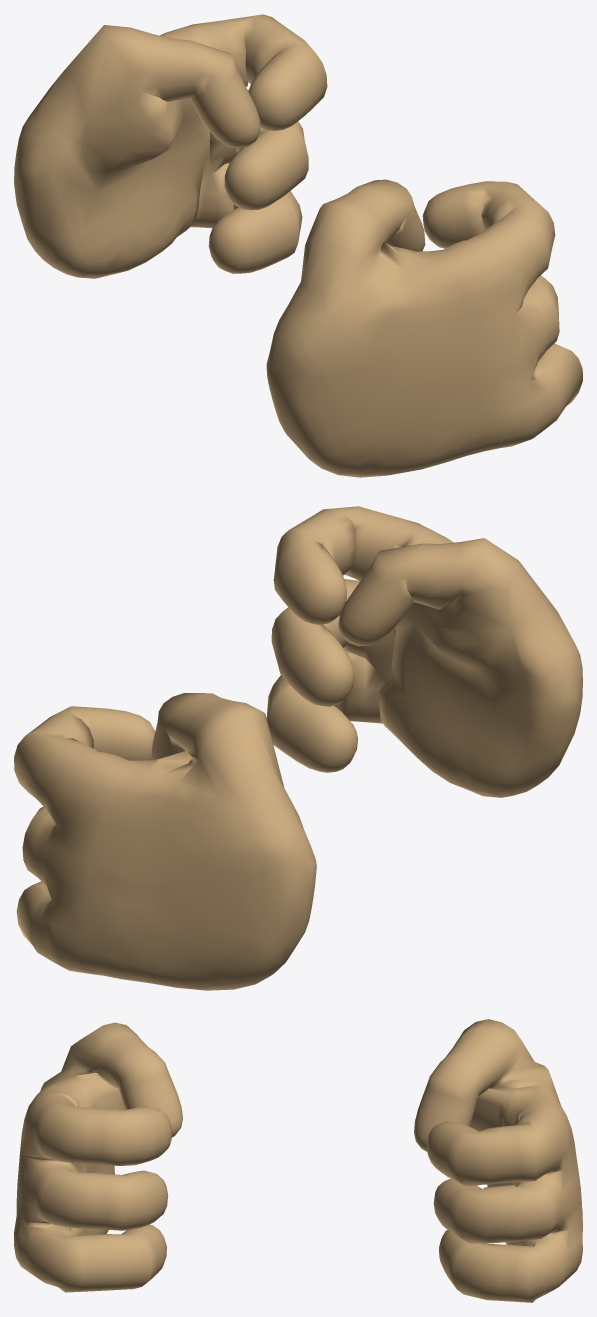
The model's file is Hand-Player2.FBX.
3 renders of one model, top to bottom at view 1: azimuth 30°, elevation 25°; view 2: azimuth 150°, elevation 25°; view 3: azimuth 270°, elevation 25°, orthographic. The views are drawn at different scales.
Visible parts, largest first — view 1: Fist-NoRig001, Fist-NoRig-003; view 2: Fist-NoRig-003, Fist-NoRig001; view 3: Fist-NoRig-003, Fist-NoRig001.
Part boxes in pixels (<box>): Fist-NoRig001: <box>266,179,582,477</box>; Fist-NoRig-003: <box>14,14,327,278</box>; Fist-NoRig-003: <box>14,693,316,990</box>; Fist-NoRig001: <box>266,506,582,797</box>; Fist-NoRig-003: <box>414,1019,582,1302</box>; Fist-NoRig001: <box>14,1022,182,1292</box>.
Bounding box in the file's own units: 8.36 × 7.06 × 16.86.
